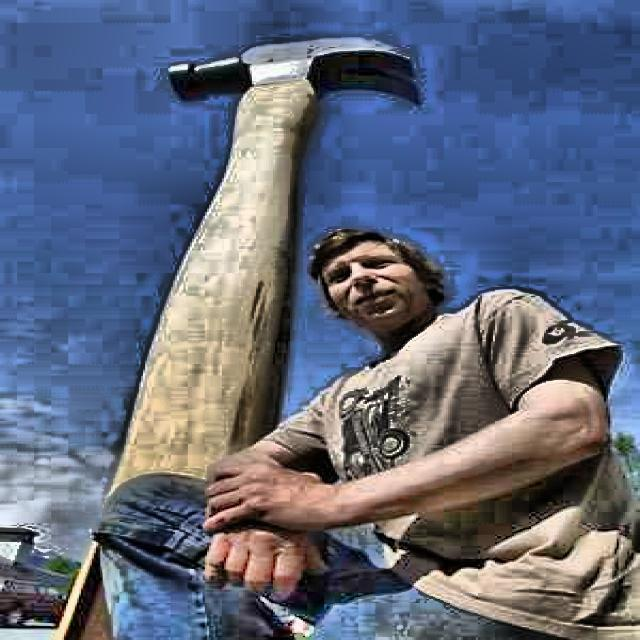hammer: (164, 35, 422, 575)
